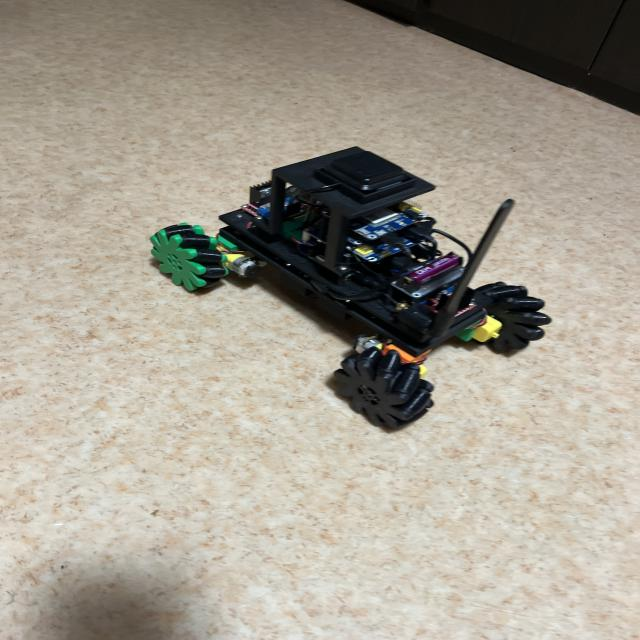robot: (150, 147, 551, 428)
